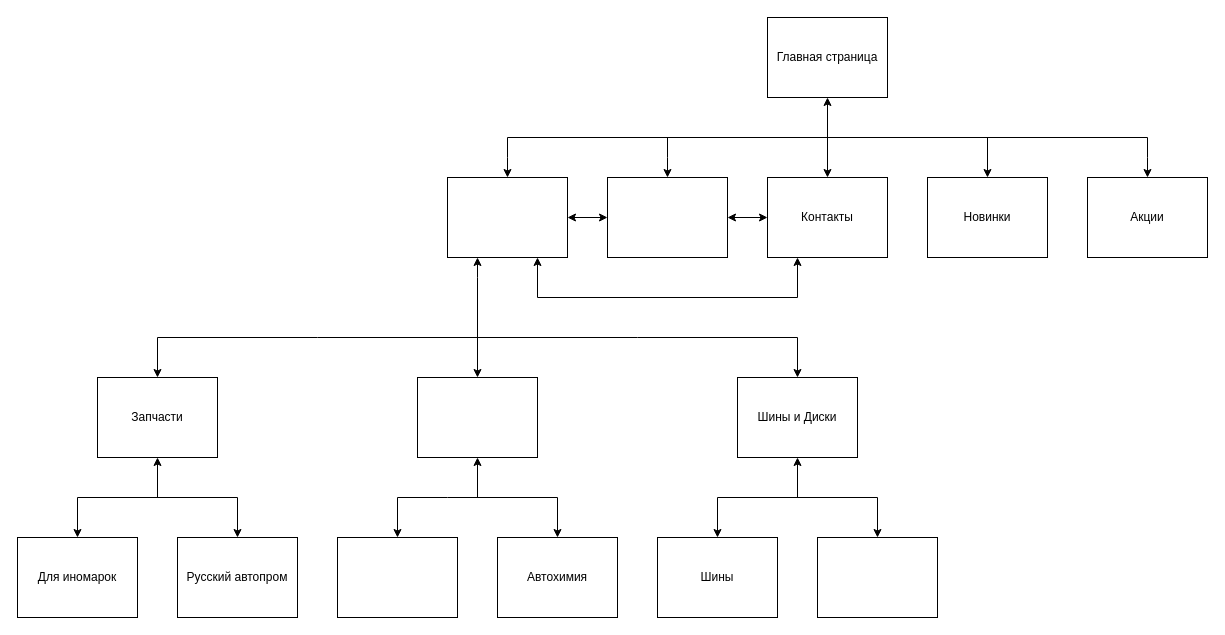
Image size: 1225x635. Some labels were removed from this diagram. The shapes that lost their labels are listed below. From the top down, each one's centre as x and y in pixels, then its label:
the point at 507,217: Каталог
the point at 667,217: О компании
the point at 477,417: Масла и Автохимия
the point at 397,577: Масла
the point at 877,577: Диски
